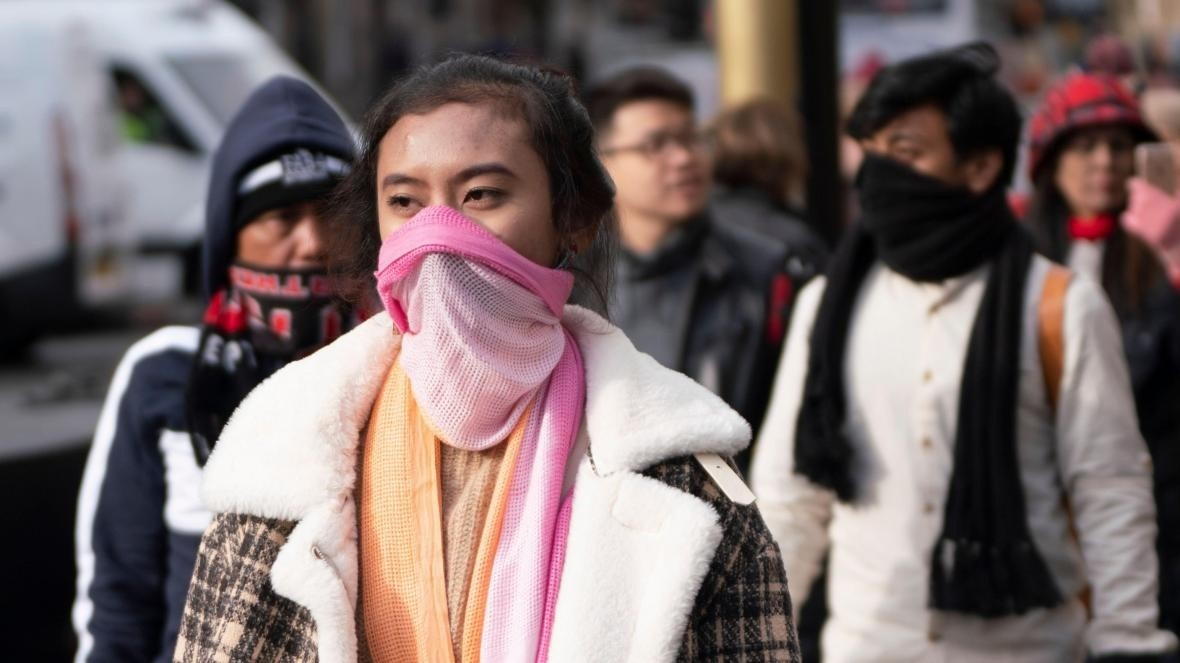face_no_mask: (591, 72, 707, 223), (1037, 94, 1141, 227)
face_with_mask: (372, 86, 582, 353), (854, 65, 1005, 253)
